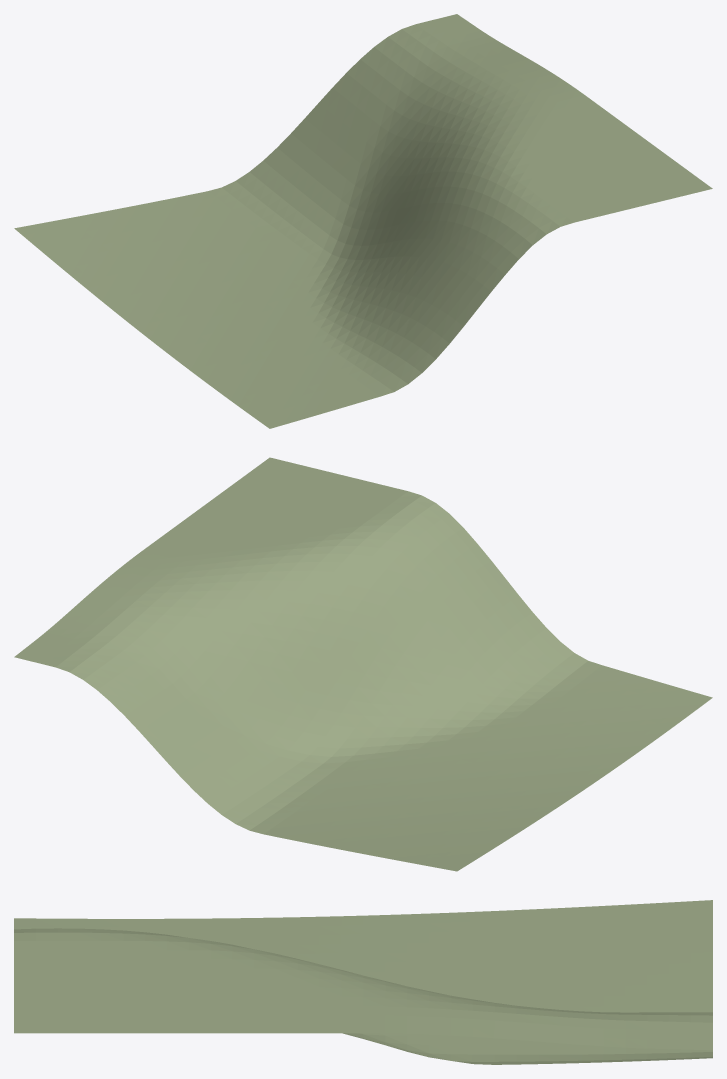
Rendered from alpine-2-10.glb.
3 renders of one model, top to bottom at view 1: azimuth 30°, elevation 25°; view 2: azimuth 150°, elevation 25°; view 3: azimuth 270°, elevation 25°, orthographic. The views are drawn at different scales.
Visible parts, largest first — view 1: alpine-2-10; view 2: alpine-2-10; view 3: alpine-2-10.
Boxes of the visible parts, bbox=[...] form: alpine-2-10: bbox=[14, 14, 712, 428]; alpine-2-10: bbox=[14, 457, 712, 871]; alpine-2-10: bbox=[14, 900, 712, 1064].
Size of the model in its own units: 256 by 73.16 by 256.
